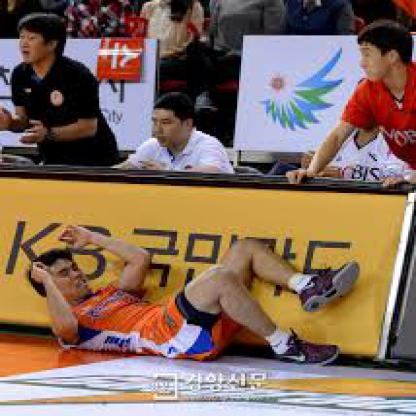Fall_Down: (25, 226, 359, 364)
